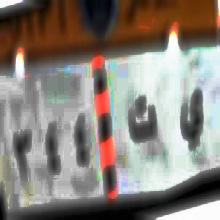3: (13, 122, 34, 188)
4: (44, 121, 64, 183), (75, 112, 92, 180)
taa: (127, 89, 160, 150)
yaa: (178, 86, 205, 148)
